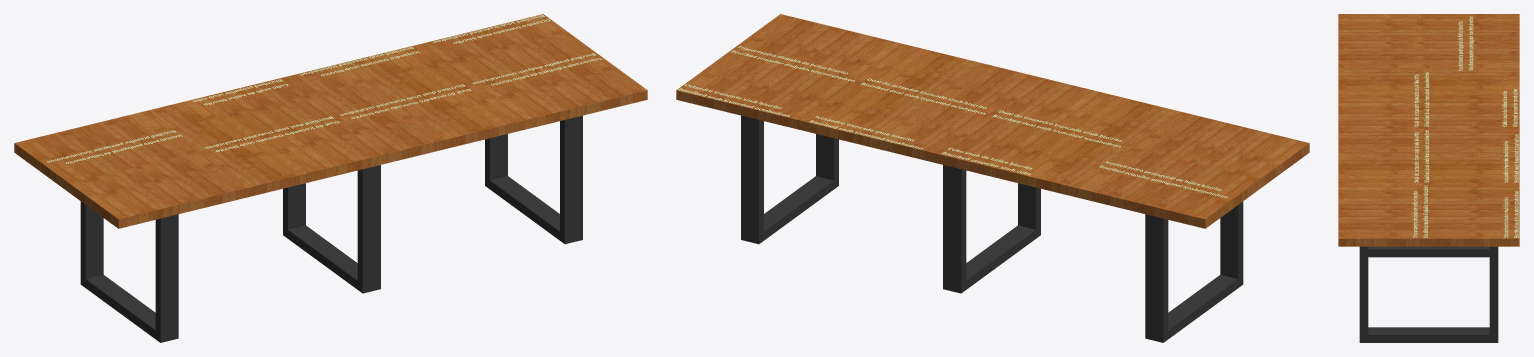
File: biscribed6.glb
3 views of the same model, side by side, from view 1: azimuth 30°, elevation 25°; view 2: azimuth 150°, elevation 25°; view 3: azimuth 270°, elevation 25° (orthographic). The views are drawn at different scales.
Parts seen in each view (by area): view 1: object 1, Composant#1 (×3), Icositetraedro p#1, Dual do icosaedr, Triacontaedro di#1, Dual do octaedro; view 2: object 1, Composant#1 (×3), Icositetraedro p#1, Dual do icosaedr, Triacontaedro di#1, Dual do octaedro; view 3: object 1, Composant#1 (×2), Icositetraedro p#1, Triacontaedro di#1, Dual do icosaedr, Dual do octaedro, Icosaedro trunca#1, Octaedro truncad#2, Cubo snub de hél.
Part boxes in pixels (x1,y1,x2,y2): object 1: (14,14,647,228); Composant#1 (×3): (80,115,582,342); Icositetraedro p#1: (47,130,182,163); Dual do icosaedr: (204,116,339,151); Triacontaedro di#1: (472,53,602,85); Dual do octaedro: (340,84,471,118); object 1: (676,14,1309,228); Composant#1 (×3): (741,115,1243,342); Icositetraedro p#1: (1099,161,1227,198); Dual do icosaedr: (993,110,1121,147); Triacontaedro di#1: (731,46,854,81); Dual do octaedro: (861,78,986,114); object 1: (1338,14,1519,246); Composant#1 (×2): (1359,246,1498,342); Icositetraedro p#1: (1458,16,1474,70); Triacontaedro di#1: (1412,185,1428,237); Dual do icosaedr: (1414,72,1429,126); Dual do octaedro: (1414,130,1429,182); Icosaedro trunca#1: (1503,134,1518,182); Octaedro truncad#2: (1503,191,1518,237); Cubo snub de hél: (1502,89,1518,126).
Bounding box in the file's own units: 2.93 × 0.771 × 1.
Materials: 3 (1 with a texture image).
